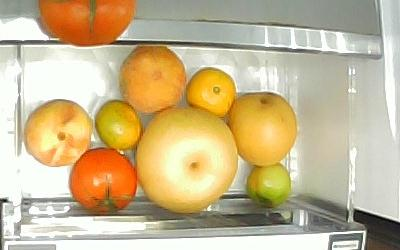peach: (117, 43, 187, 113), (23, 98, 93, 167)
pear: (133, 105, 238, 212), (226, 90, 297, 166)
tangerine: (184, 65, 236, 118), (94, 98, 142, 150)
tomato: (67, 145, 138, 212), (244, 162, 291, 208)
